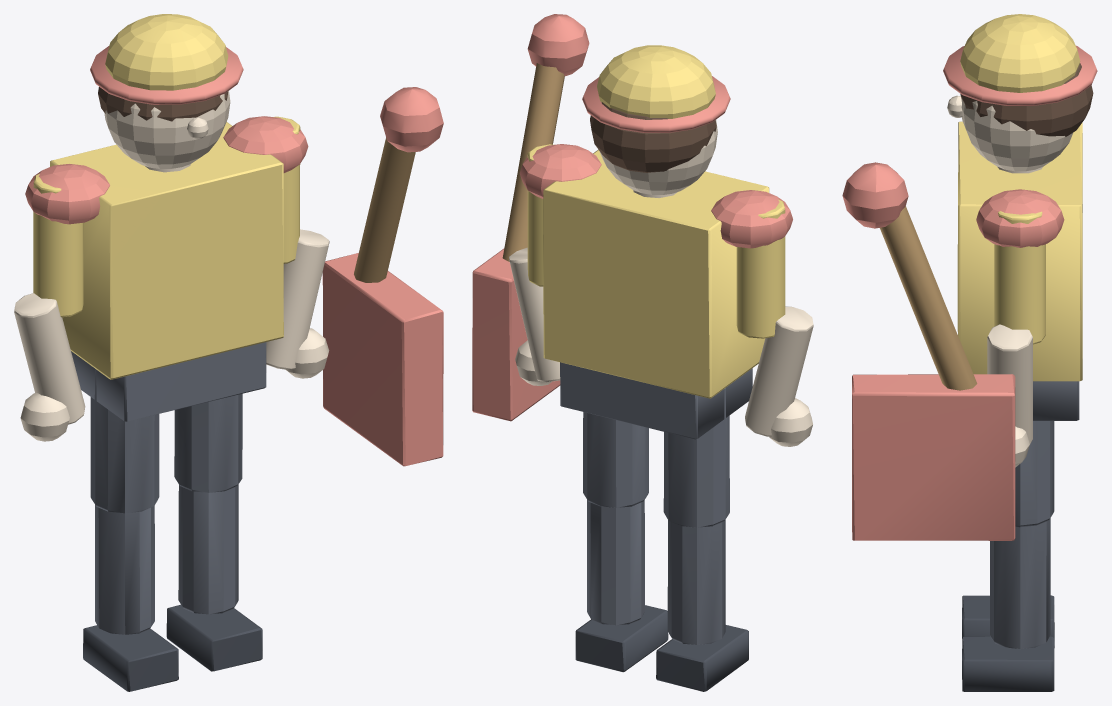
Rendered from SM_Leonidas_LOD1.fbx.
3 renders of one model, left to right at view 1: azimuth 30°, elevation 25°; view 2: azimuth 150°, elevation 25°; view 3: azimuth 270°, elevation 25°, orthographic. The views are drawn at different scales.
Visible parts, largest first — view 1: SM_Leonidas_LOD1; view 2: SM_Leonidas_LOD1; view 3: SM_Leonidas_LOD1.
Boxes of the visible parts, x1,y1,x2,y2 form: SM_Leonidas_LOD1: [14, 14, 443, 691]; SM_Leonidas_LOD1: [472, 14, 813, 691]; SM_Leonidas_LOD1: [842, 14, 1097, 691].
Bounding box in the file's own units: 0.8574 × 1.46 × 0.5291.
